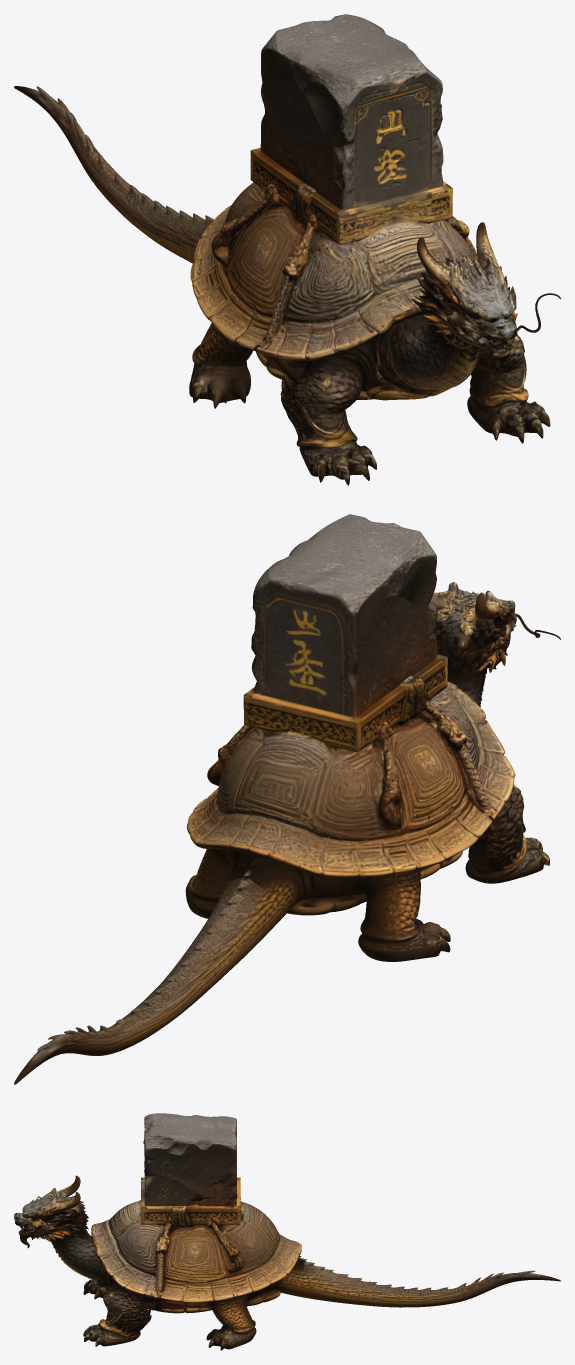
3 views of the same model, one above another, from view 1: azimuth 30°, elevation 25°; view 2: azimuth 150°, elevation 25°; view 3: azimuth 270°, elevation 25° (orthographic). The views are drawn at different scales.
Parts seen in each view (by area): view 1: node_0; view 2: node_0; view 3: node_0.
Boxes of the visible parts, left/top/right/bottom form: node_0: left=14, top=14, right=560, bottom=485; node_0: left=14, top=514, right=560, bottom=1084; node_0: left=14, top=1113, right=560, bottom=1350.
Bounding box in the file's own units: 0.3522 × 0.458 × 1.16.
1 material, 1 textured.
